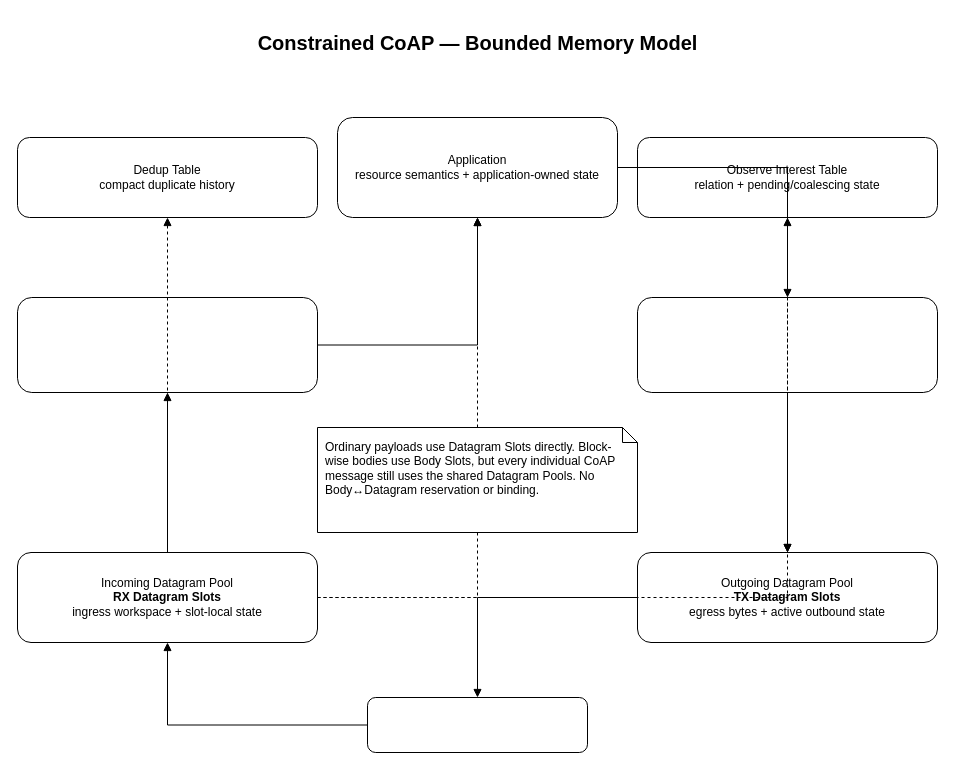
Some shapes in this 955 by 770 pixel diagram are drawn without their labels. Here are the shapes that lost their labels. From the top down, the box of each, then its label:
(16, 296, 318, 392): Incoming Body Pool complete contiguous bodies Block / Q-Block state
(636, 296, 938, 392): Outgoing Body Pool complete contiguous bodies Block / Q-Block state
(366, 696, 588, 752): UDP / Socket
